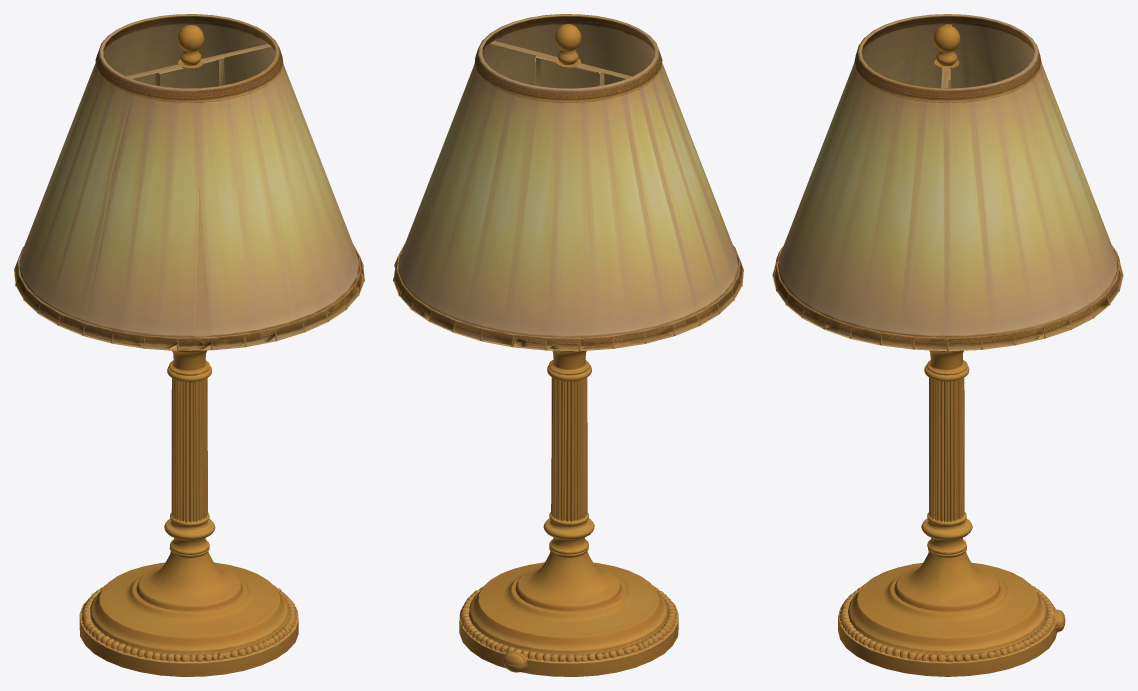
Rendered from table-lamp.glb.
3 renders of one model, left to right at view 1: azimuth 30°, elevation 25°; view 2: azimuth 150°, elevation 25°; view 3: azimuth 270°, elevation 25°, orthographic.
Visible parts, largest first — view 1: SM_BT_TableLamp; view 2: SM_BT_TableLamp; view 3: SM_BT_TableLamp.
Part boxes in pixels (x1,y1,x2,y2): SM_BT_TableLamp: (14,14,364,676); SM_BT_TableLamp: (393,14,743,676); SM_BT_TableLamp: (772,14,1123,676).
Bounding box in the file's own units: 0.24 × 0.4562 × 0.24.
1 material, 1 textured.
